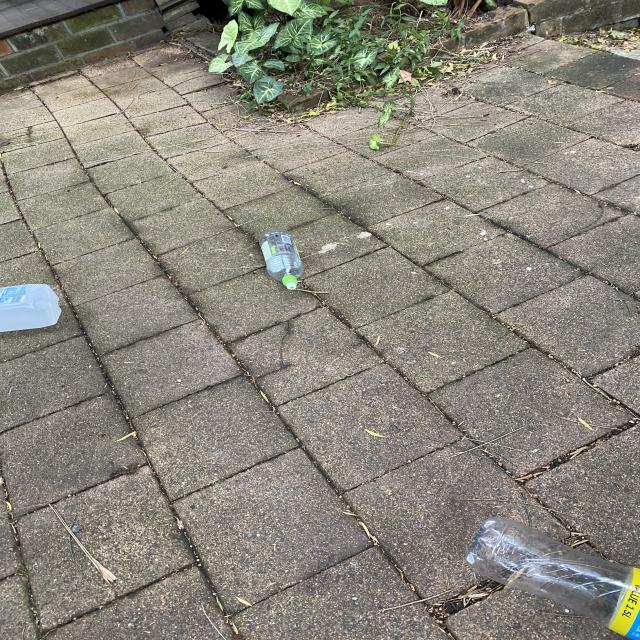bottle: (455, 516, 640, 640), (262, 225, 307, 297), (2, 286, 70, 333)
